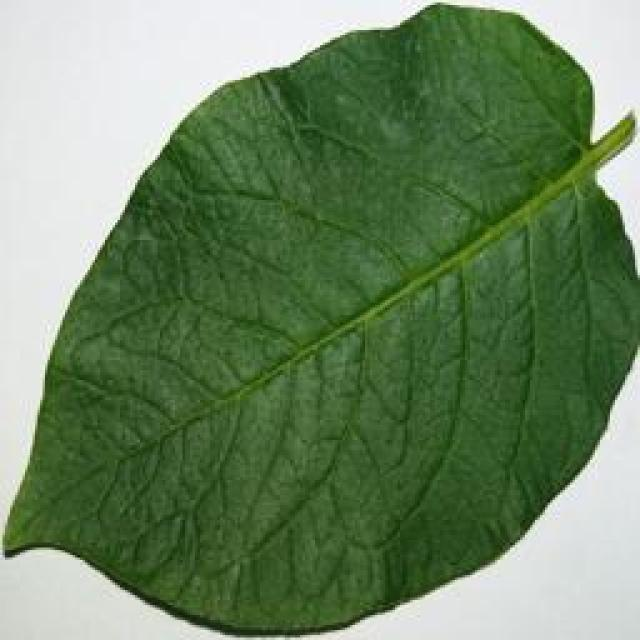Potato_Healthy: (7, 8, 630, 632)
